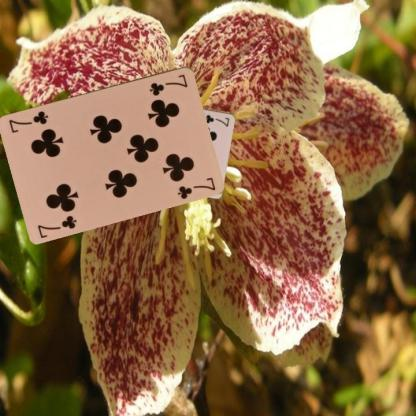7c: (35, 212, 79, 239), (147, 71, 189, 97), (202, 112, 231, 128)
